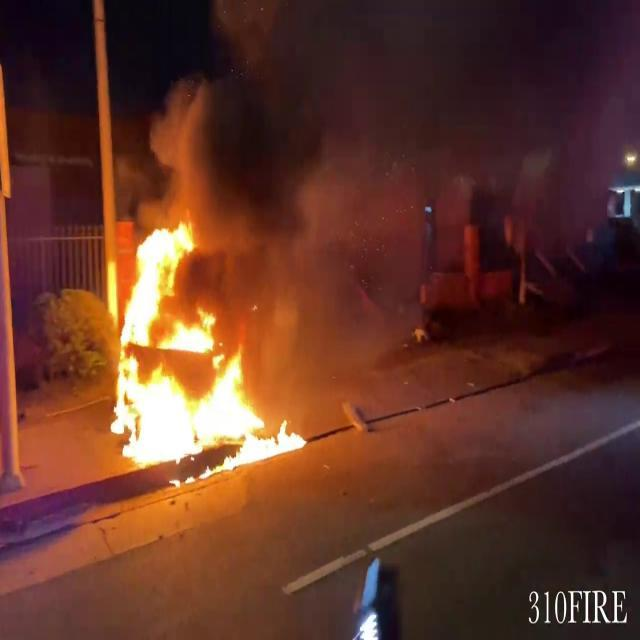Fire: (103, 206, 307, 478)
Smoke: (160, 0, 636, 231)
